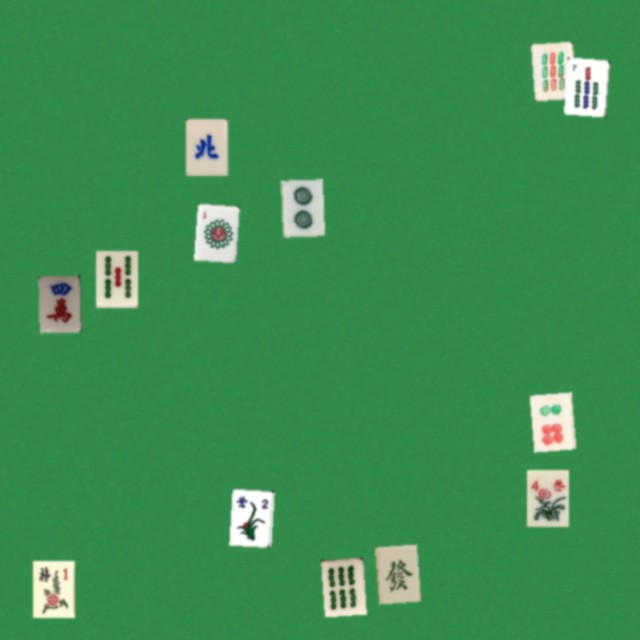tile: (280, 179, 322, 236), (229, 488, 271, 545), (185, 118, 227, 175), (38, 275, 80, 332), (95, 250, 137, 307), (526, 469, 568, 526), (32, 560, 74, 617), (530, 41, 572, 98), (321, 557, 363, 614), (374, 544, 416, 601), (529, 392, 571, 449), (563, 57, 605, 114), (194, 203, 236, 260)
